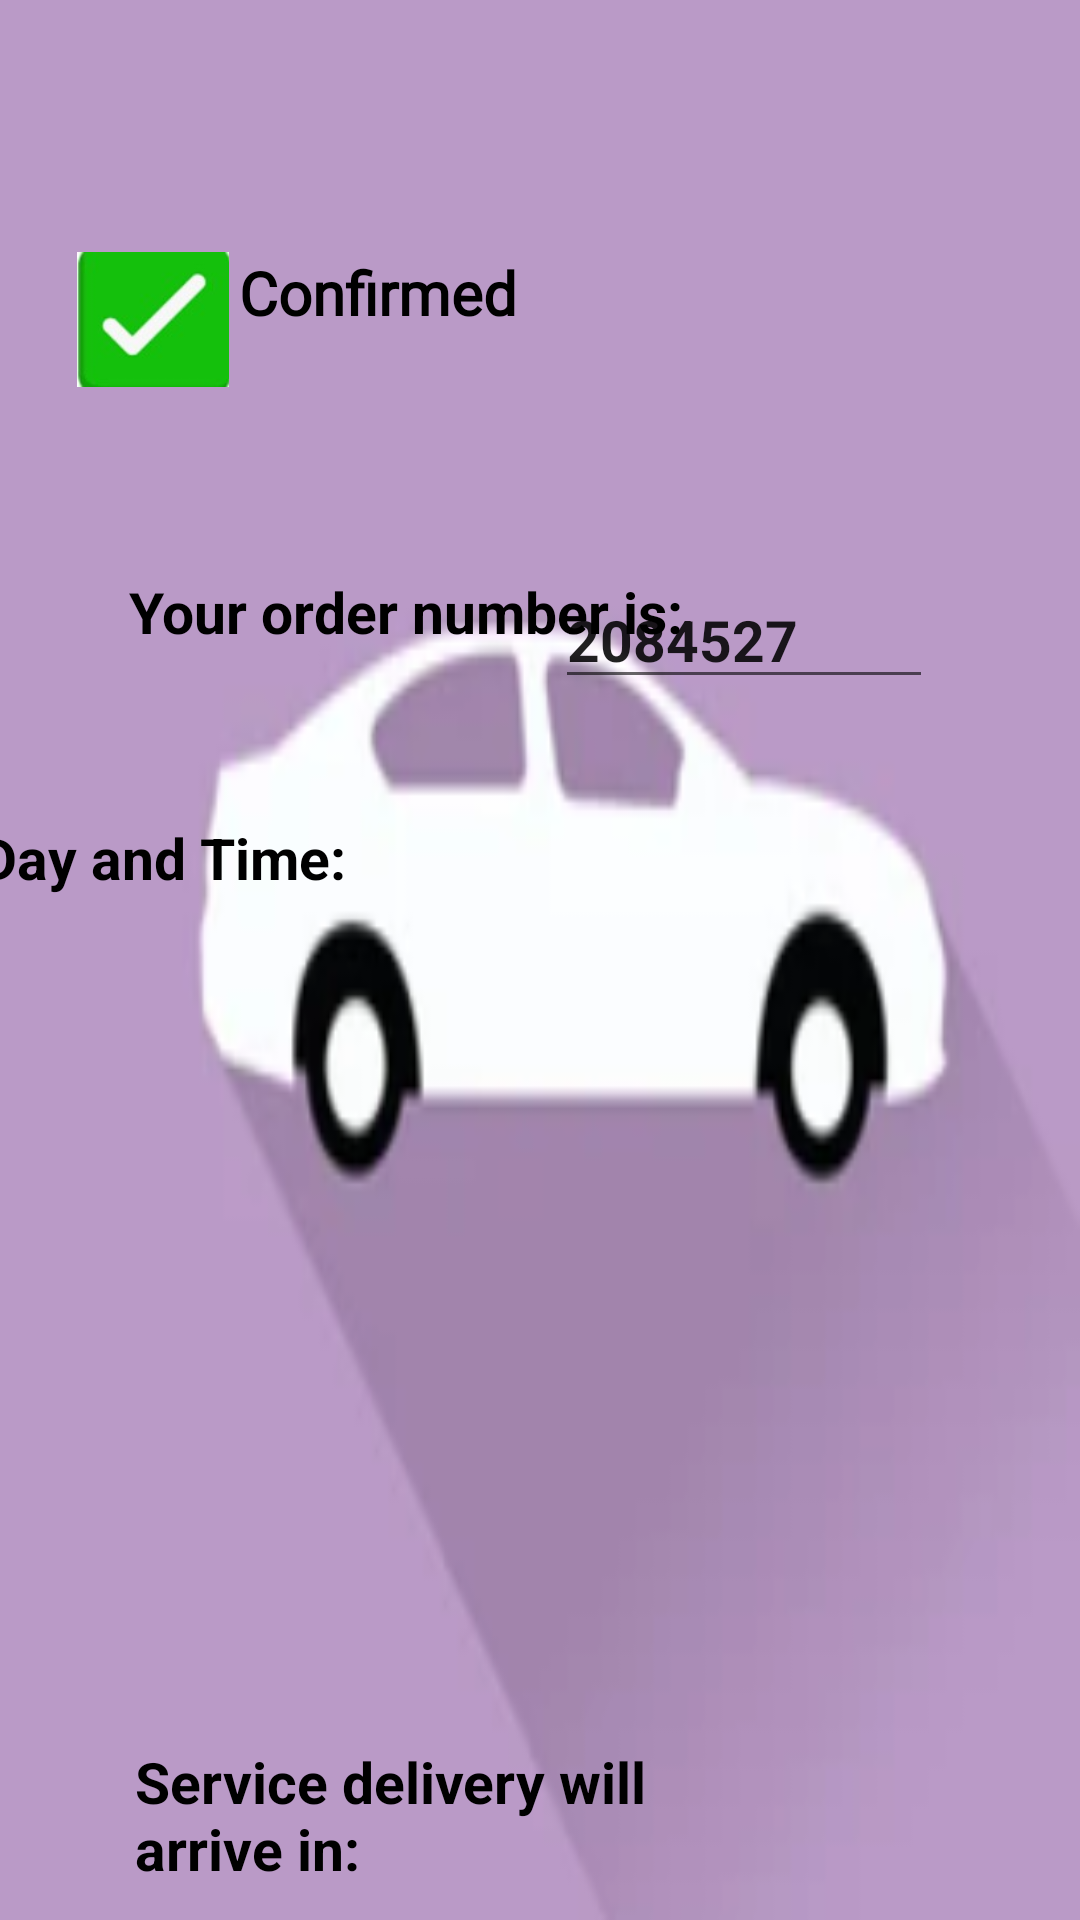

Icon bounding boxes for this 1080px×1920px phone screenshot, format (x1, y1, x2, y2):
tick: (77, 252, 229, 387)
